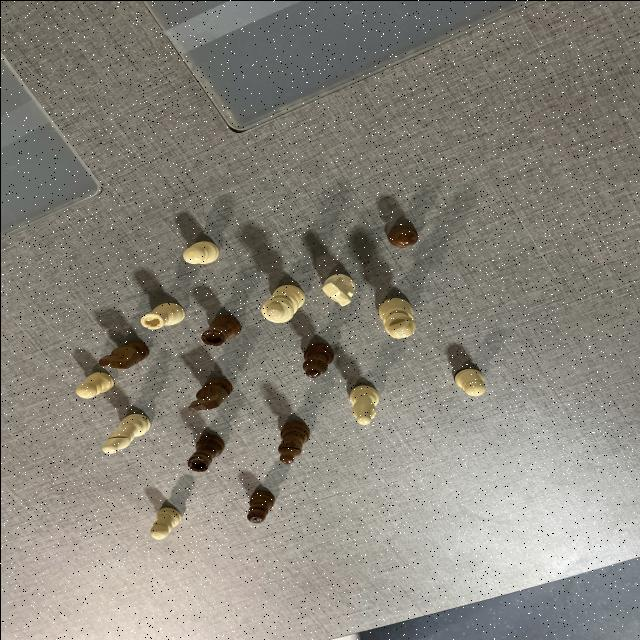Black-Bishop: (276, 421, 309, 467), (298, 341, 332, 377)
Black-Knight: (185, 376, 231, 412), (97, 338, 149, 368)
Black-Pawn: (244, 492, 274, 524), (384, 225, 416, 247)
Black-Rook: (187, 435, 223, 473), (197, 318, 239, 346)
White-Bishop: (100, 414, 154, 453), (348, 386, 378, 424)
White-King: (378, 296, 412, 336)
White-Knight: (322, 272, 354, 306)
White-Pawn: (147, 506, 182, 540), (73, 371, 113, 397), (452, 366, 486, 396), (182, 238, 218, 264)
White-Queen: (258, 282, 304, 322)
White-Rook: (134, 302, 182, 330)
